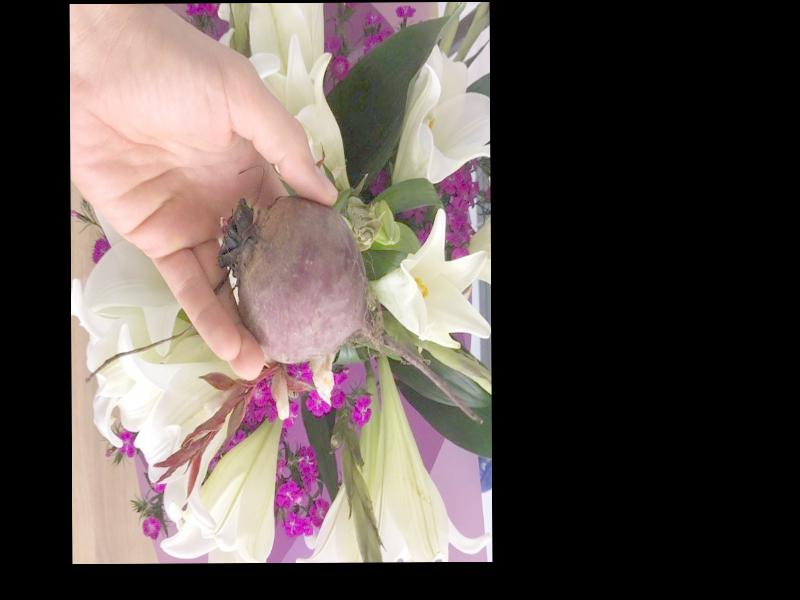Beet: (219, 195, 480, 426)
